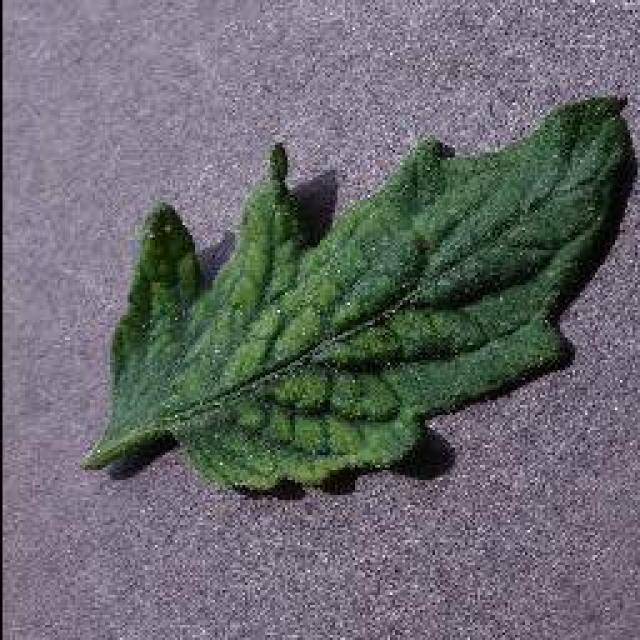Tomato___Tomato_mosaic_virus: (85, 98, 632, 490)
